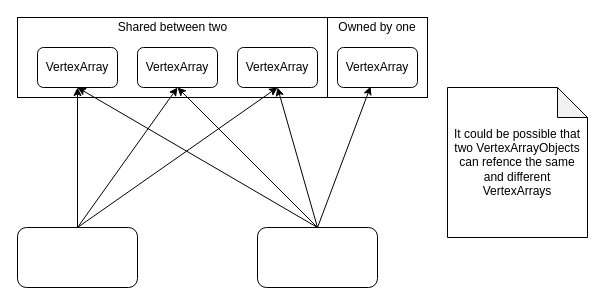
The diagram is 605 pixels wide and 305 high, and some of its shapes have lost their labels. Here are the shapes that lost their labels. From the top down, the centre of each, then its label:
(x=77, y=257): VertexArrayObjects1
(x=317, y=257): VertexArrayObjects2
